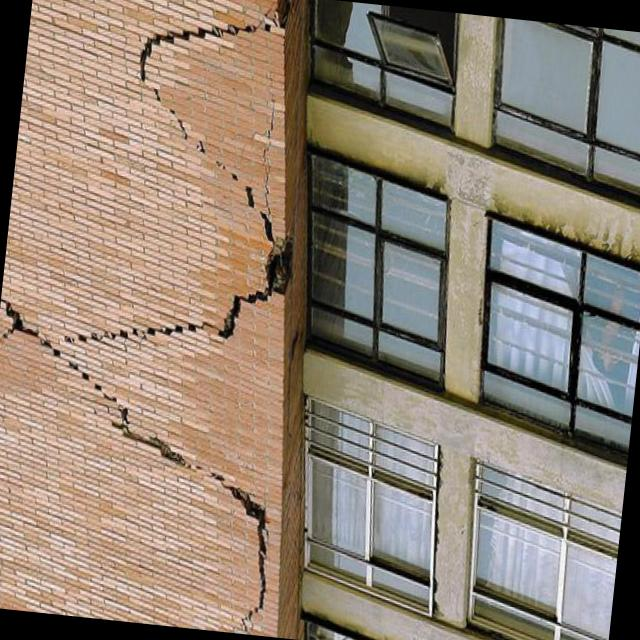crack: (0, 298, 269, 628), (63, 210, 293, 345), (137, 19, 285, 136), (244, 183, 254, 211)
